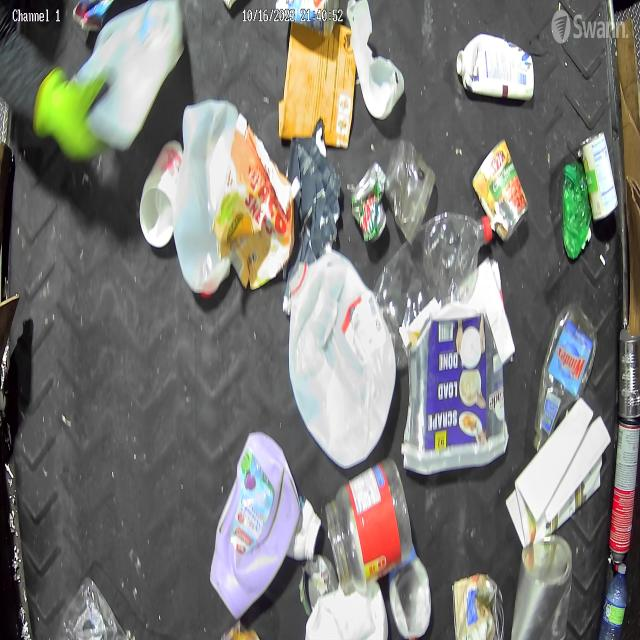can: (510, 535, 573, 640), (472, 139, 529, 244), (609, 416, 640, 569), (579, 128, 620, 224), (452, 572, 506, 640), (350, 160, 388, 244), (300, 553, 338, 616), (618, 327, 640, 416)
milk_jug: (288, 247, 396, 470), (73, 0, 184, 154), (174, 99, 239, 296)
non_white_jug: (210, 430, 300, 622)
plastic_bottle: (374, 211, 493, 368), (598, 561, 628, 640)
